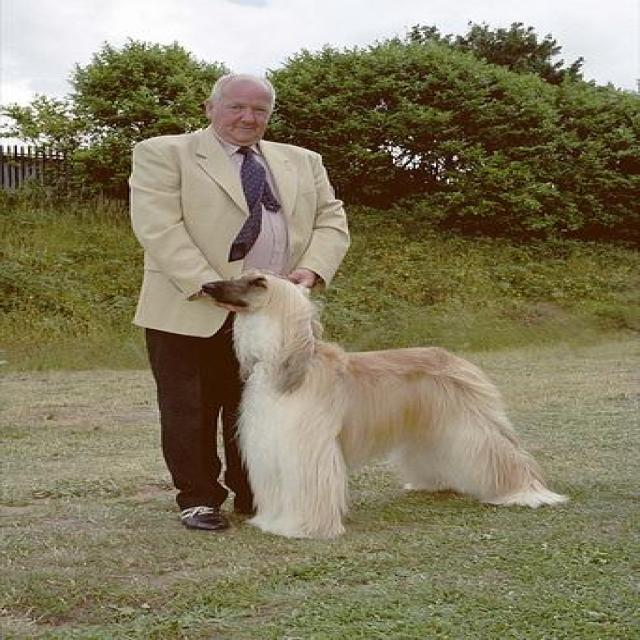afghan_hound: (193, 270, 563, 542)
